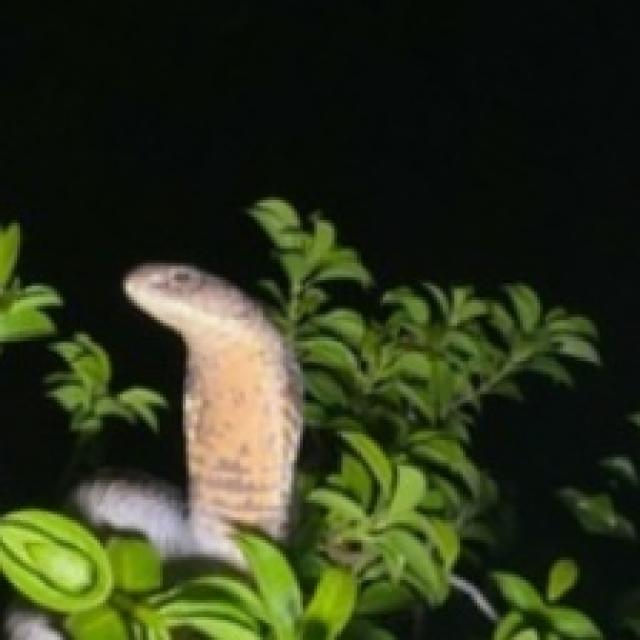king cobra: (0, 263, 300, 637)
